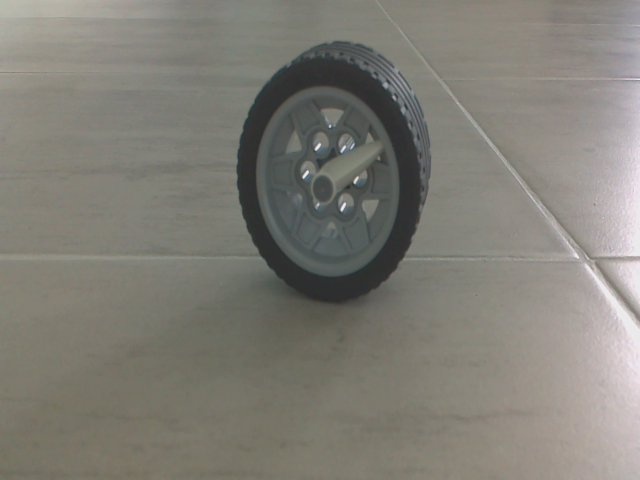Rad+Grau_lang+Kappe: (227, 35, 439, 313)
